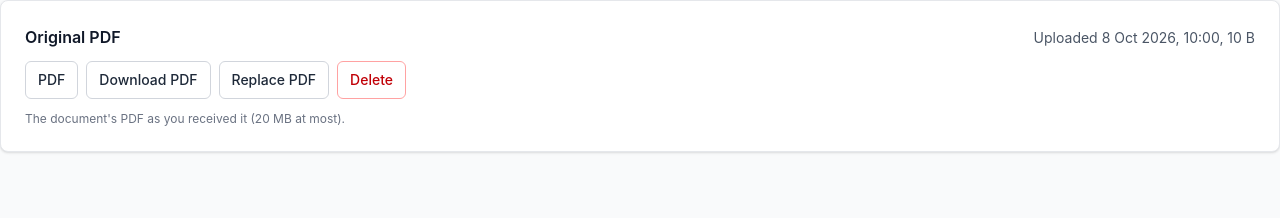
it: OriginalPdfPanel › deletes after confirmation; a missing PDF on open reads as not uploaded
Step 1. Click the button with test id "original-open" → (52, 80), box [25,61,78,99]
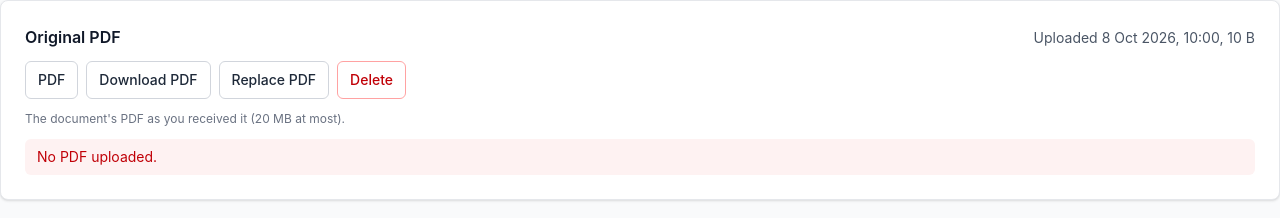
expect the message with test id "pdf-error" reads "No PDF uploaded.": met, box [37,148,157,165]
Step 2. Click the button with test id "original-delete" → (372, 80), box [337,61,406,99]
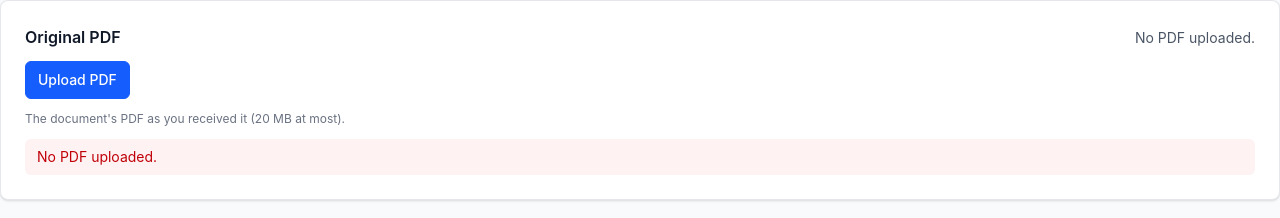
expect the text "No PDF uploaded." is shown: met, box [1135,28,1255,48]
